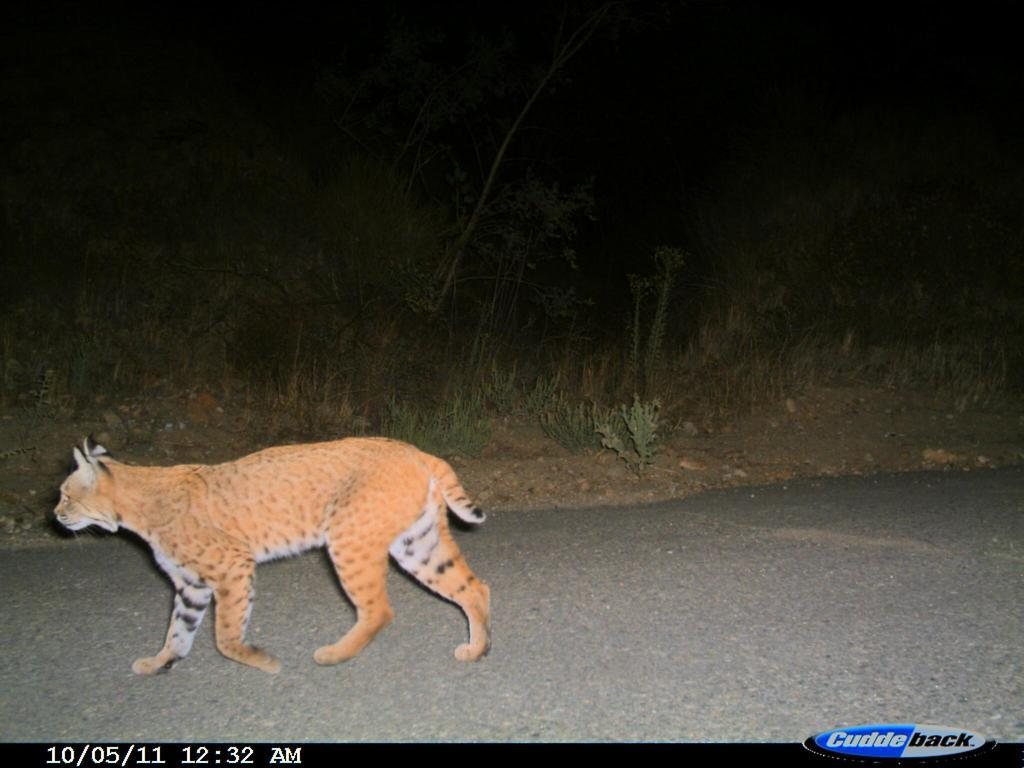bobcat: (41, 418, 518, 683)
